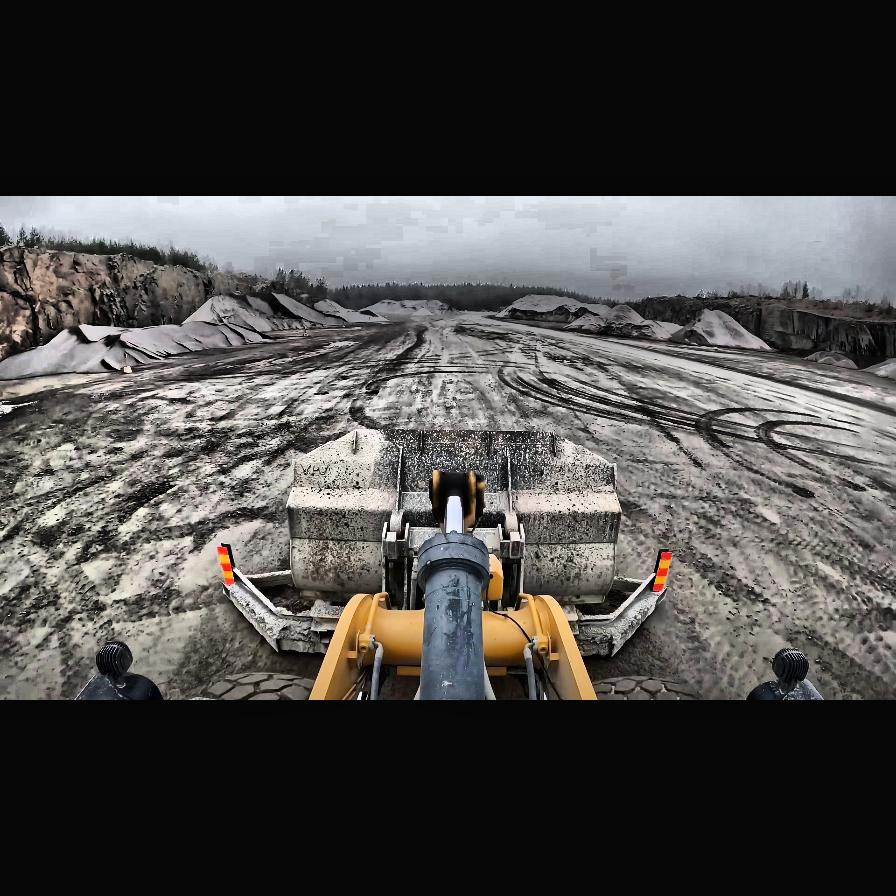anchor: (430, 469, 480, 529)
pile of gravel: (0, 322, 268, 376), (558, 295, 772, 349), (190, 292, 362, 330), (566, 302, 658, 338), (364, 298, 462, 320), (560, 314, 606, 332), (552, 304, 588, 320), (605, 304, 639, 318), (492, 306, 518, 318)
